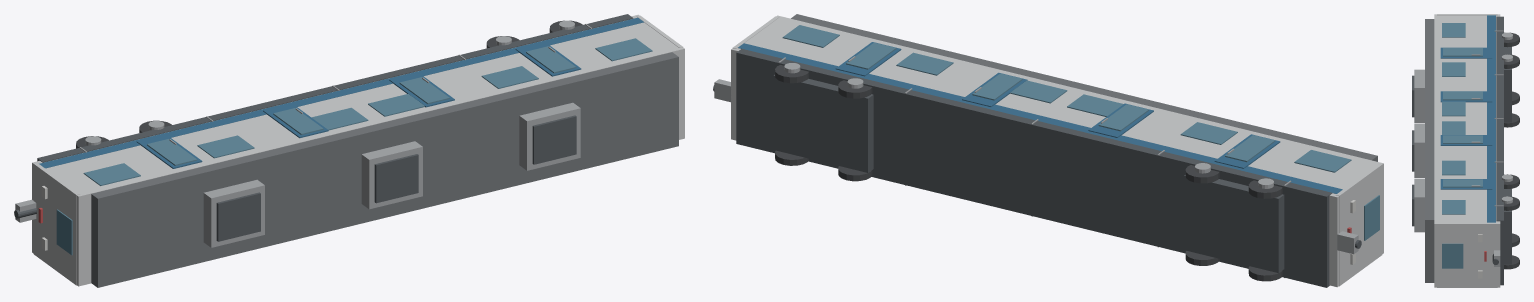
File: commuter_train_car_detailed.glb
3 renders of one model, left to right at view 1: azimuth 30°, elevation 25°; view 2: azimuth 150°, elevation 25°; view 3: azimuth 270°, elevation 25°, orthographic. The views are drawn at different scales.
Visible parts, largest first — view 1: roof, carbody, underframe, blue_livery, front_end, hvac_unit_1, hvac_unit_2, hvac_unit, hvac_grille, hvac_grille_2, hvac_grille_1, passenger_window_1_9 (+14 smaller); view 2: underframe, carbody, bogie_frame_1, bogie_frame, roof, blue_livery, front_end, passenger_window_1_7, passenger_window_1_0, passenger_window_1_2, passenger_window_1_5, passenger_window_1_9 (+11 smaller); view 3: carbody, rear_end, roof, underframe, blue_livery, hvac_unit, hvac_unit_2, hvac_unit_1, windscreen_1, bogie_frame_1, bogie_frame, door_glass_1_1 (+26 smaller).
Boxes of the visible parts, bbox=[...] form: roof: bbox=[91, 52, 678, 287]; carbody: bbox=[32, 14, 684, 286]; underframe: bbox=[37, 14, 633, 162]; blue_livery: bbox=[39, 17, 643, 168]; front_end: bbox=[33, 163, 79, 285]; hvac_unit_1: bbox=[361, 141, 422, 209]; hvac_unit_2: bbox=[519, 102, 580, 170]; hvac_unit: bbox=[203, 179, 264, 247]; hvac_grille: bbox=[216, 192, 260, 241]; hvac_grille_2: bbox=[532, 115, 576, 164]; hvac_grille_1: bbox=[374, 154, 418, 203]; passenger_window_1_9: bbox=[595, 38, 652, 61]; underframe: bbox=[736, 49, 1332, 287]; carbody: bbox=[731, 15, 1383, 287]; bogie_frame_1: bbox=[773, 74, 873, 172]; bogie_frame: bbox=[1184, 175, 1284, 272]; roof: bbox=[791, 14, 1377, 161]; blue_livery: bbox=[738, 43, 1342, 193]; front_end: bbox=[1336, 163, 1382, 286]; passenger_window_1_7: bbox=[896, 52, 953, 75]; passenger_window_1_0: bbox=[1294, 150, 1351, 172]; passenger_window_1_2: bbox=[1180, 122, 1237, 144]; passenger_window_1_5: bbox=[1010, 80, 1067, 103]; passenger_window_1_9: bbox=[782, 25, 839, 47]; carbody: bbox=[1434, 14, 1500, 287]; rear_end: bbox=[1437, 222, 1497, 287]; roof: bbox=[1425, 19, 1434, 282]; underframe: bbox=[1496, 16, 1503, 285]; blue_livery: bbox=[1487, 15, 1495, 222]; hvac_unit: bbox=[1414, 69, 1424, 123]; hvac_unit_2: bbox=[1414, 178, 1424, 232]; hvac_unit_1: bbox=[1414, 124, 1424, 177]; windscreen_1: bbox=[1442, 243, 1463, 268]; bogie_frame_1: bbox=[1504, 188, 1511, 264]; bogie_frame: bbox=[1504, 47, 1511, 122]; door_glass_1_1: bbox=[1443, 91, 1482, 100].
Bounding box in the file's own units: 20.4 × 2.93 × 4.17.
